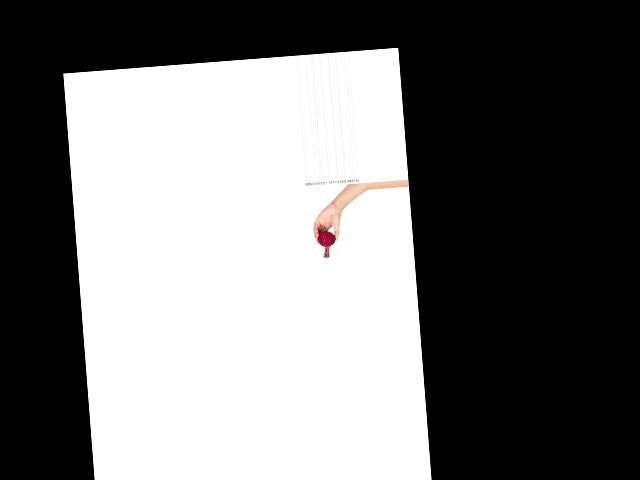beet: (316, 230, 336, 258)
